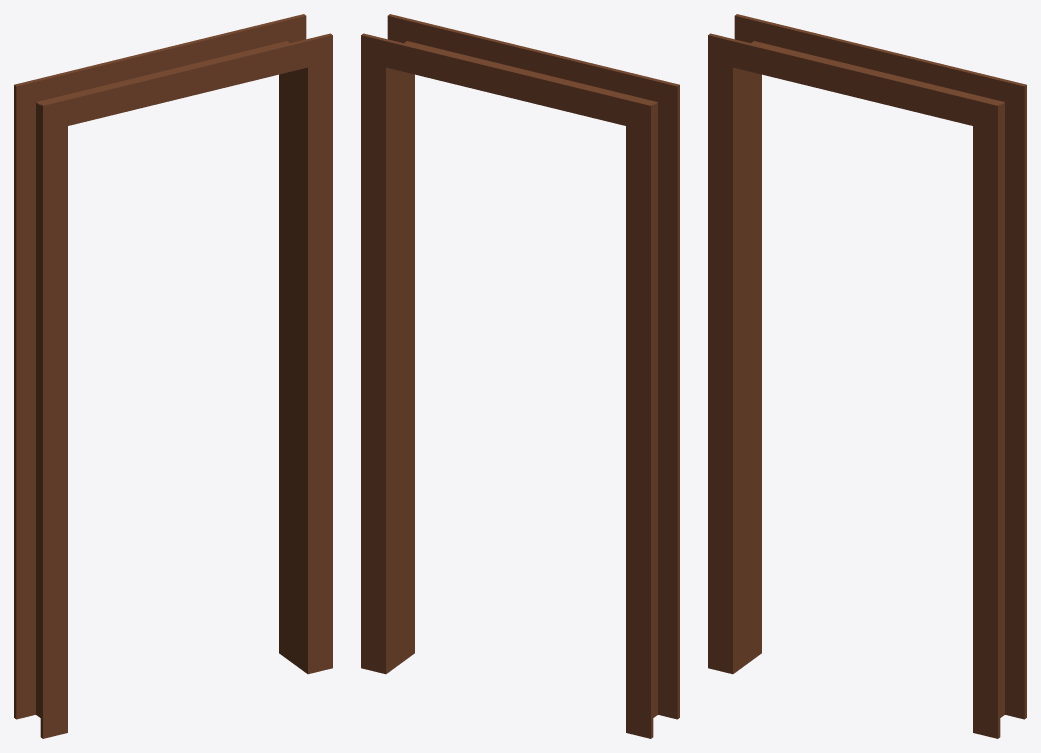
The model's file is batente_simples_madeira.glb.
3 renders of one model, left to right at view 1: azimuth 30°, elevation 25°; view 2: azimuth 150°, elevation 25°; view 3: azimuth 330°, elevation 25°, orthographic.
Visible parts, largest first — view 1: batente_simples_madeira; view 2: batente_simples_madeira; view 3: batente_simples_madeira.
Boxes of the visible parts, bbox=[...] form: batente_simples_madeira: bbox=[14, 14, 332, 738]; batente_simples_madeira: bbox=[361, 14, 679, 738]; batente_simples_madeira: bbox=[708, 14, 1026, 738].
Size of the model in its own units: 1.04 by 2.17 by 0.18.
